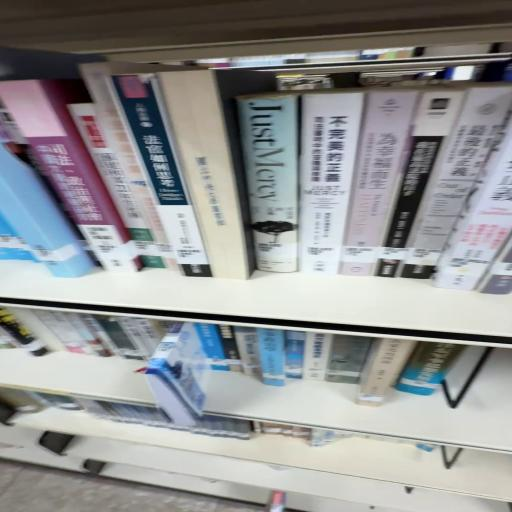backward: (156, 67, 256, 278)
